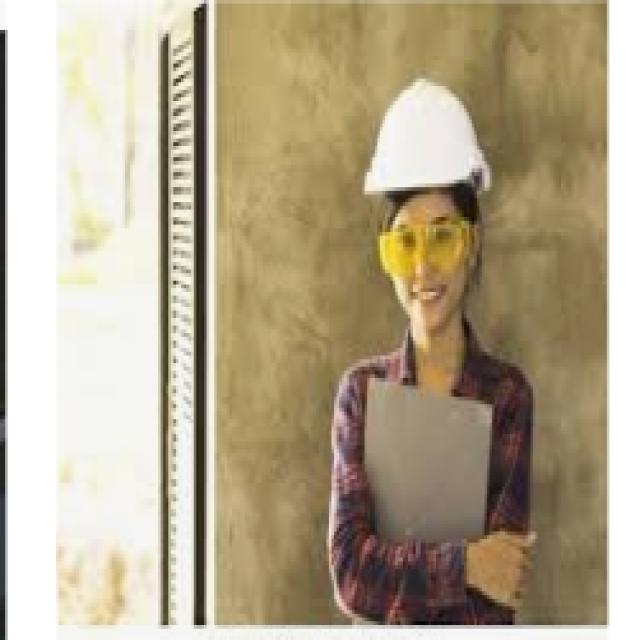glasses: (380, 220, 480, 277)
